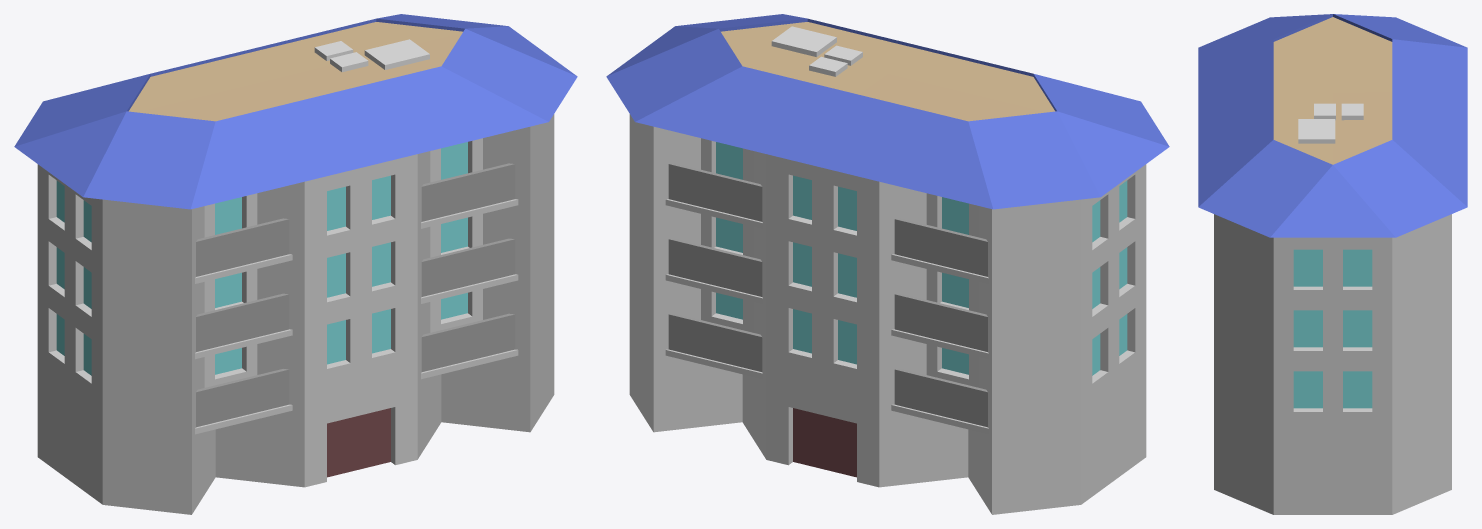
Rendered from big .fbx.
The picture shows the model from 3 angles, left to right: view 1: azimuth 30°, elevation 25°; view 2: azimuth 150°, elevation 25°; view 3: azimuth 270°, elevation 25°; orthographic projection. The views are drawn at different scales.
Visible parts, largest first — view 1: Cube; view 2: Cube; view 3: Cube.
Part boxes in pixels (<box>): Cube: <box>14,14,577,514</box>; Cube: <box>606,14,1169,514</box>; Cube: <box>1198,14,1467,514</box>.
Bounding box in the file's own units: 620 × 428 × 320.
